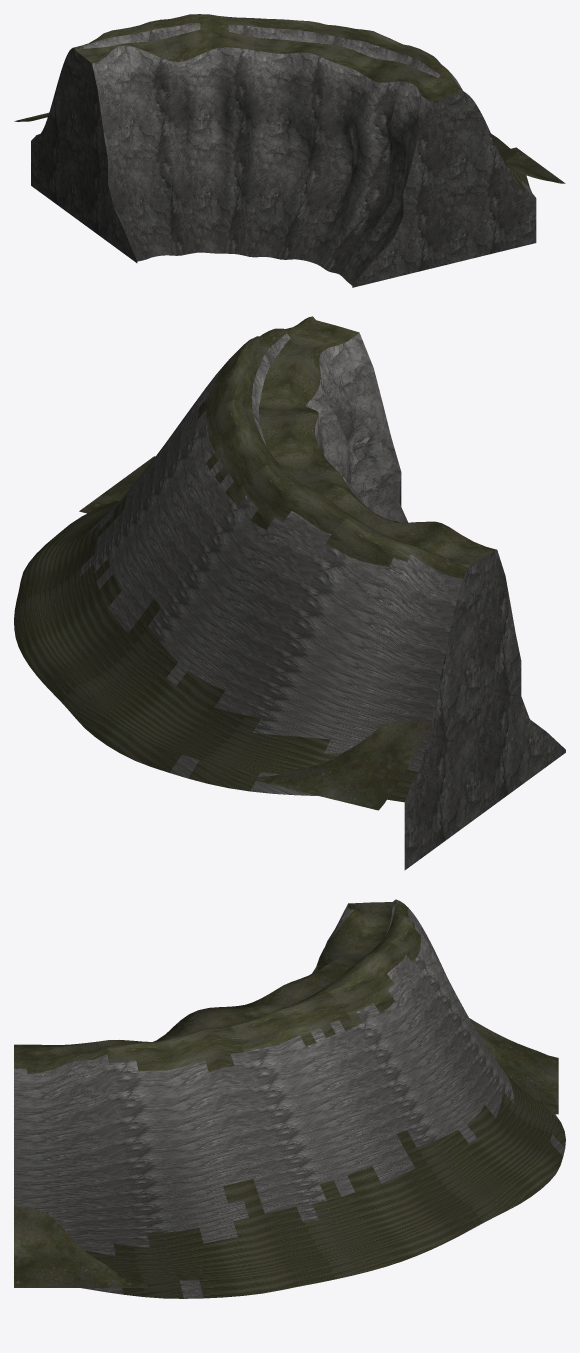
Rendered from seacliff_inner_h3_v5_summer.glb.
3 renders of one model, top to bottom at view 1: azimuth 30°, elevation 25°; view 2: azimuth 150°, elevation 25°; view 3: azimuth 270°, elevation 25°, orthographic. The views are drawn at different scales.
Visible parts, largest first — view 1: seacliff_inner_h3; view 2: seacliff_inner_h3; view 3: seacliff_inner_h3.
Boxes of the visible parts, left/top/right/bottom form: seacliff_inner_h3: left=14, top=14, right=565, bottom=287; seacliff_inner_h3: left=14, top=316, right=565, bottom=870; seacliff_inner_h3: left=14, top=899, right=565, bottom=1298.
Size of the model in its own units: 9.83 by 4.92 by 9.91.
2 materials, 2 textured.
